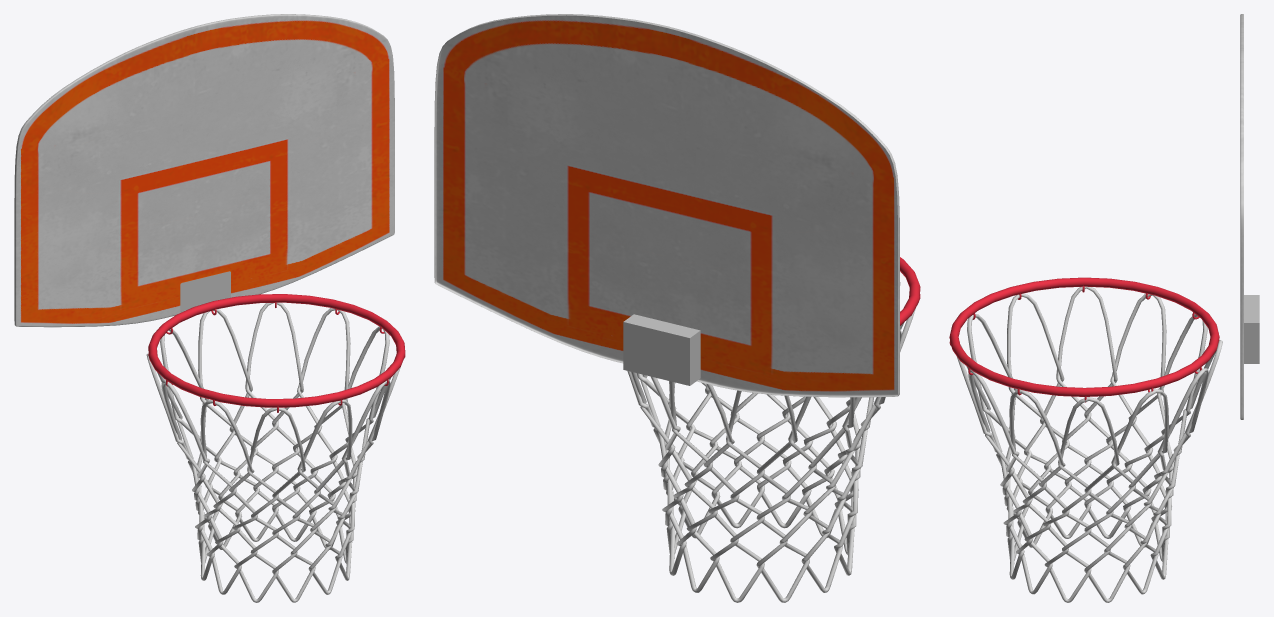
Rendered from new-hoop.glb.
The picture shows the model from 3 angles, left to right: view 1: azimuth 30°, elevation 25°; view 2: azimuth 150°, elevation 25°; view 3: azimuth 270°, elevation 25°; orthographic projection. The views are drawn at different scales.
Visible parts, largest first — view 1: a bakcboard, a3, a2, Cube; view 2: a bakcboard, a3, Cube, a2; view 3: a3, a2, a bakcboard, Cube.
Part boxes in pixels (left/top/right/bottom): a bakcboard: left=14, top=14, right=394, bottom=327; a3: left=146, top=302, right=400, bottom=602; a2: left=148, top=294, right=405, bottom=412; Cube: left=180, top=271, right=230, bottom=311; a bakcboard: left=434, top=14, right=899, bottom=397; a3: left=627, top=282, right=915, bottom=602; Cube: left=623, top=314, right=700, bottom=385; a2: left=900, top=257, right=920, bottom=325; a3: left=957, top=286, right=1222, bottom=602; a2: left=949, top=277, right=1219, bottom=402; a bakcboard: left=1240, top=14, right=1243, bottom=419; Cube: left=1244, top=295, right=1259, bottom=363.
Bounding box in the file's own units: 0.9588 × 1.19 × 0.6475.
4 materials, 1 textured.
